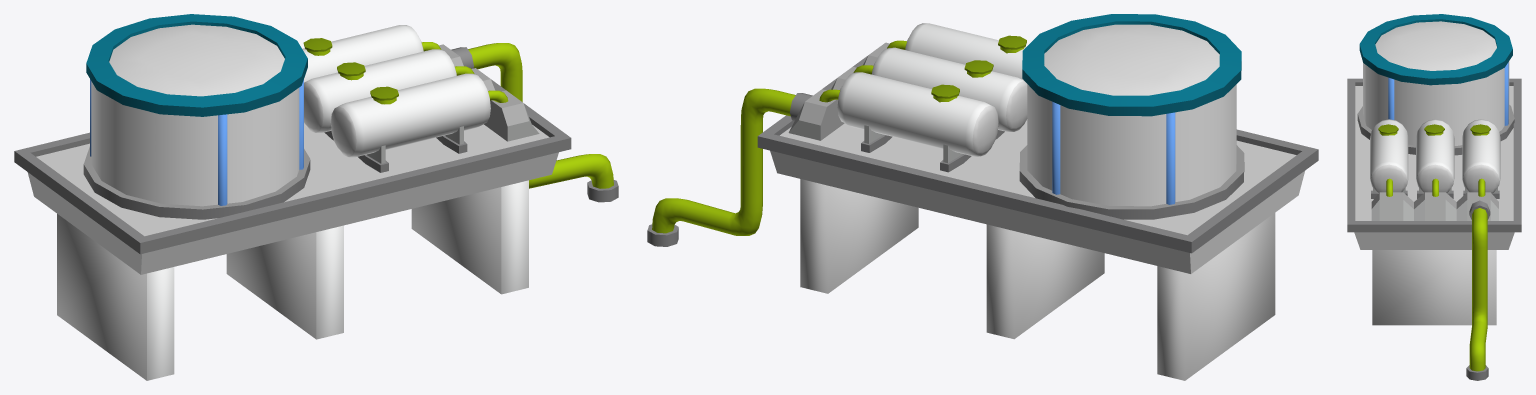
Rendered from build2.fbx.
The picture shows the model from 3 angles, left to right: view 1: azimuth 30°, elevation 25°; view 2: azimuth 150°, elevation 25°; view 3: azimuth 270°, elevation 25°; orthographic projection. The views are drawn at different scales.
Visible parts, largest first — view 1: freight_station_01, oil_refining_00.001, gas_refining_00.001; view 2: freight_station_01, oil_refining_00.001, gas_refining_00.001; view 3: freight_station_01, oil_refining_00.001, gas_refining_00.001.
Part boxes in pixels (x1=…): freight_station_01: x1=14, y1=79, x2=571, y2=380; oil_refining_00.001: x1=83, y1=14, x2=310, y2=219; gas_refining_00.001: x1=302, y1=25, x2=618, y2=202; freight_station_01: x1=757, y1=56, x2=1318, y2=380; oil_refining_00.001: x1=1019, y1=14, x2=1244, y2=219; gas_refining_00.001: x1=647, y1=23, x2=1027, y2=246; freight_station_01: x1=1347, y1=78, x2=1521, y2=325; oil_refining_00.001: x1=1357, y1=14, x2=1514, y2=155; gas_refining_00.001: x1=1370, y1=119, x2=1500, y2=380.
Size of the model in its own units: 63.22 by 74.52 by 166.
